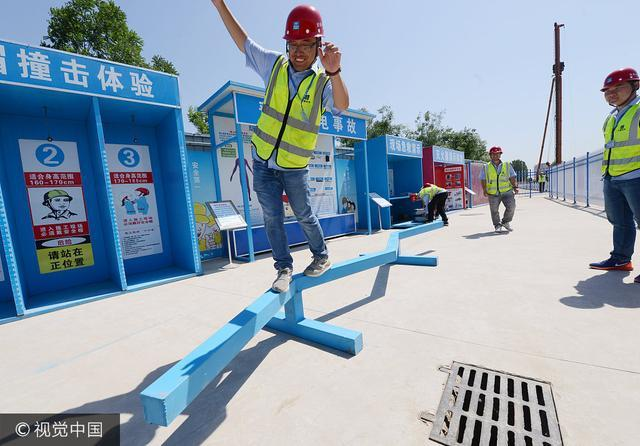helmet: (284, 5, 324, 44), (600, 69, 640, 93), (489, 146, 503, 155)
